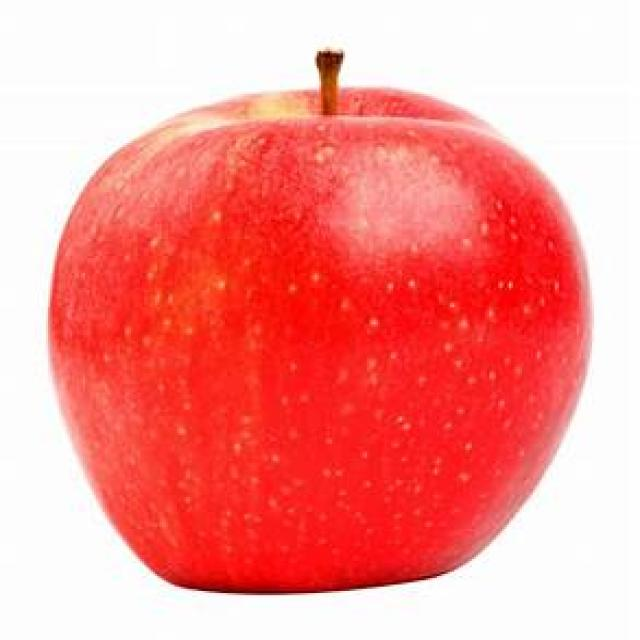apple: (44, 46, 597, 592)
